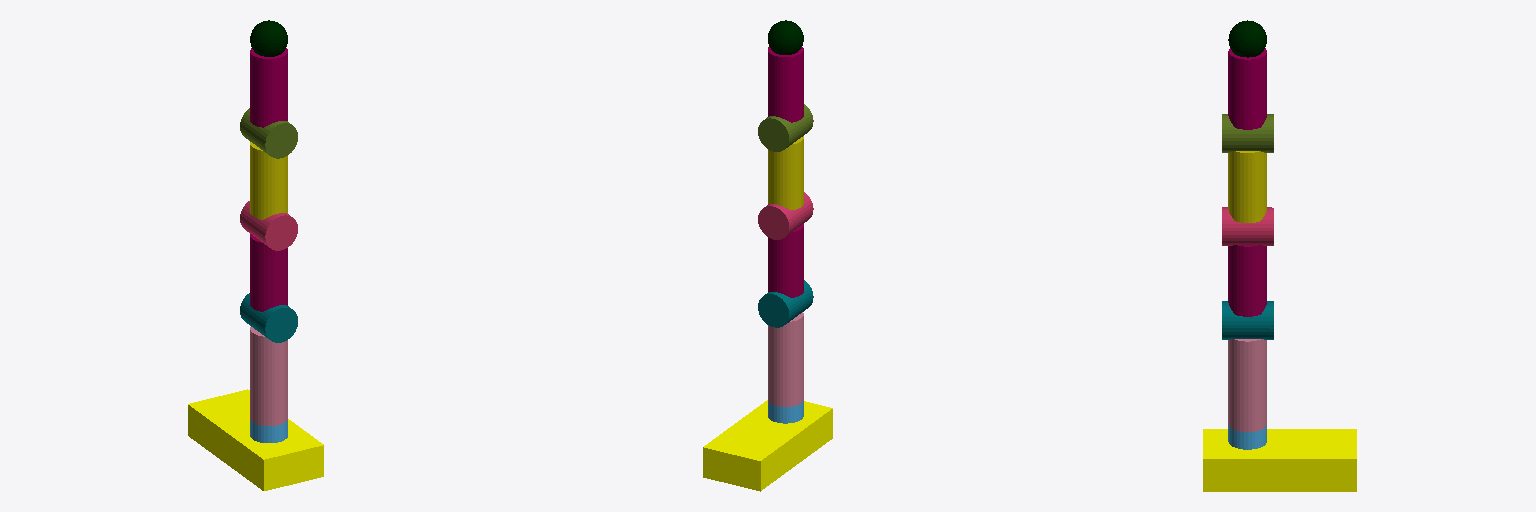
robot.urdf — my_robot:
<?xml version="1.0"?>
<robot name="my_robot">

    <material name="darkcyan">
        <color rgba="0.0392156862745098 0.5333333333333333 0.5411764705882353 1.0" />
    </material>

    <material name="darkforestgreen">
        <color rgba="0.0 0.17647058823529413 0.01568627450980392 1.0" />
    </material>

    <material name="darkfuchsia">
        <color rgba="0.615686274509804 0.027450980392156862 0.34901960784313724 1.0" />
    </material>

    <material name="darkgold">
        <color rgba="0.7098039215686275 0.5803921568627451 0.06274509803921569 1.0" />
    </material>

    <material name="darkgrassgreen">
        <color rgba="0.2196078431372549 0.5019607843137255 0.01568627450980392 1.0" />
    </material>

    <material name="darkgreen">
        <color rgba="0.0196078431372549 0.28627450980392155 0.027450980392156862 1.0" />
    </material>

    <material name="darkgreenblue">
        <color rgba="0.12156862745098039 0.38823529411764707 0.3411764705882353 1.0" />
    </material>

    <material name="darkgrey">
        <color rgba="0.21176470588235294 0.21568627450980393 0.21568627450980393 1.0" />
    </material>

    <material name="darkgreyblue">
        <color rgba="0.1607843137254902 0.27450980392156865 0.3568627450980392 1.0" />
    </material>

    <material name="darkhotpink">
        <color rgba="0.8509803921568627 0.00392156862745098 0.4 1.0" />
    </material>

    <material name="darkindigo">
        <color rgba="0.12156862745098039 0.03529411764705882 0.32941176470588235 1.0" />
    </material>

    <material name="darkishblue">
        <color rgba="0.00392156862745098 0.2549019607843137 0.5098039215686274 1.0" />
    </material>

    <material name="darkishgreen">
        <color rgba="0.1568627450980392 0.48627450980392156 0.21568627450980393 1.0" />
    </material>

    <material name="darkishpink">
        <color rgba="0.8549019607843137 0.27450980392156865 0.49019607843137253 1.0" />
    </material>

    <material name="darkishpurple">
        <color rgba="0.4588235294117647 0.09803921568627451 0.45098039215686275 1.0" />
    </material>

    <material name="darkishred">
        <color rgba="0.6627450980392157 0.011764705882352941 0.03137254901960784 1.0" />
    </material>

    <material name="darkkhaki">
        <color rgba="0.6078431372549019 0.5607843137254902 0.3333333333333333 1.0" />
    </material>

    <material name="darklavender">
        <color rgba="0.5215686274509804 0.403921568627451 0.596078431372549 1.0" />
    </material>

    <material name="darklilac">
        <color rgba="0.611764705882353 0.42745098039215684 0.6470588235294118 1.0" />
    </material>

    <material name="darklime">
        <color rgba="0.5176470588235295 0.7176470588235294 0.00392156862745098 1.0" />
    </material>

    <material name="darklimegreen">
        <color rgba="0.49411764705882355 0.7411764705882353 0.00392156862745098 1.0" />
    </material>

    <material name="darkmagenta">
        <color rgba="0.5882352941176471 0.0 0.33725490196078434 1.0" />
    </material>

    <material name="darkmaroon">
        <color rgba="0.23529411764705882 0.0 0.03137254901960784 1.0" />
    </material>

    <material name="darkmauve">
        <color rgba="0.5294117647058824 0.2980392156862745 0.3843137254901961 1.0" />
    </material>

    <material name="darkmint">
        <color rgba="0.2823529411764706 0.7529411764705882 0.4470588235294118 1.0" />
    </material>

    <material name="darkmintgreen">
        <color rgba="0.12549019607843137 0.7529411764705882 0.45098039215686275 1.0" />
    </material>

    <material name="darkmustard">
        <color rgba="0.6588235294117647 0.5372549019607843 0.0196078431372549 1.0" />
    </material>

    <material name="darknavy">
        <color rgba="0.0 0.01568627450980392 0.20784313725490197 1.0" />
    </material>

    <material name="darknavyblue">
        <color rgba="0.0 0.00784313725490196 0.1803921568627451 1.0" />
    </material>

    <material name="darkolive">
        <color rgba="0.21568627450980393 0.24313725490196078 0.00784313725490196 1.0" />
    </material>

    <material name="darkolivegreen">
        <color rgba="0.23529411764705882 0.30196078431372547 0.011764705882352941 1.0" />
    </material>

    <material name="darkorange">
        <color rgba="0.7764705882352941 0.3176470588235294 0.00784313725490196 1.0" />
    </material>

    <material name="darkpastelgreen">
        <color rgba="0.33725490196078434 0.6823529411764706 0.3411764705882353 1.0" />
    </material>

    <material name="darkpeach">
        <color rgba="0.8705882352941177 0.49411764705882355 0.36470588235294116 1.0" />
    </material>

    <material name="darkperiwinkle">
        <color rgba="0.4 0.37254901960784315 0.8196078431372549 1.0" />
    </material>

    <material name="darkpink">
        <color rgba="0.796078431372549 0.2549019607843137 0.4196078431372549 1.0" />
    </material>

    <material name="darkplum">
        <color rgba="0.24705882352941178 0.00392156862745098 0.17254901960784313 1.0" />
    </material>

    <material name="darkpurple">
        <color rgba="0.20784313725490197 0.023529411764705882 0.24313725490196078 1.0" />
    </material>

    <material name="darkred">
        <color rgba="0.5176470588235295 0.0 0.0 1.0" />
    </material>

    <material name="darkrose">
        <color rgba="0.7098039215686275 0.2823529411764706 0.36470588235294116 1.0" />
    </material>

    <material name="darkroyalblue">
        <color rgba="0.00784313725490196 0.023529411764705882 0.43529411764705883 1.0" />
    </material>

    <material name="darksage">
        <color rgba="0.34901960784313724 0.5215686274509804 0.33725490196078434 1.0" />
    </material>

    <material name="darksalmon">
        <color rgba="0.7843137254901961 0.35294117647058826 0.3254901960784314 1.0" />
    </material>

    <material name="darksand">
        <color rgba="0.6588235294117647 0.5607843137254902 0.34901960784313724 1.0" />
    </material>

    <material name="darkseafoam">
        <color rgba="0.12156862745098039 0.7098039215686275 0.47843137254901963 1.0" />
    </material>

    <material name="darkseafoamgreen">
        <color rgba="0.24313725490196078 0.6862745098039216 0.4627450980392157 1.0" />
    </material>

    <material name="darkseagreen">
        <color rgba="0.06666666666666667 0.5294117647058824 0.36470588235294116 1.0" />
    </material>

    <material name="darkskyblue">
        <color rgba="0.26666666666666666 0.5568627450980392 0.8941176470588236 1.0" />
    </material>

    <material name="darkslateblue">
        <color rgba="0.12941176470588237 0.2784313725490196 0.3803921568627451 1.0" />
    </material>

    <material name="darktan">
        <color rgba="0.6862745098039216 0.5333333333333333 0.2901960784313726 1.0" />
    </material>

    <material name="darktaupe">
        <color rgba="0.4980392156862745 0.40784313725490196 0.3058823529411765 1.0" />
    </material>

    <material name="darkteal">
        <color rgba="0.00392156862745098 0.30196078431372547 0.3058823529411765 1.0" />
    </material>

    <material name="darkturquoise">
        <color rgba="0.01568627450980392 0.3607843137254902 0.35294117647058826 1.0" />
    </material>

    <material name="darkviolet">
        <color rgba="0.20392156862745098 0.00392156862745098 0.24705882352941178 1.0" />
    </material>

    <material name="darkyellow">
        <color rgba="0.8352941176470589 0.7137254901960784 0.0392156862745098 1.0" />
    </material>

    <material name="darkyellowgreen">
        <color rgba="0.4470588235294118 0.5607843137254902 0.00784313725490196 1.0" />
    </material>

    <material name="deepaqua">
        <color rgba="0.03137254901960784 0.47058823529411764 0.4980392156862745 1.0" />
    </material>

    <material name="deepblue">
        <color rgba="0.01568627450980392 0.00784313725490196 0.45098039215686275 1.0" />
    </material>

    <material name="deepbrown">
        <color rgba="0.2549019607843137 0.00784313725490196 0.0 1.0" />
    </material>

    <material name="deepgreen">
        <color rgba="0.00784313725490196 0.34901960784313724 0.058823529411764705 1.0" />
    </material>

    <material name="deeplavender">
        <color rgba="0.5529411764705883 0.3686274509803922 0.7176470588235294 1.0" />
    </material>

    <material name="deeplilac">
        <color rgba="0.5882352941176471 0.43137254901960786 0.7411764705882353 1.0" />
    </material>

    <material name="deepmagenta">
        <color rgba="0.6274509803921569 0.00784313725490196 0.3607843137254902 1.0" />
    </material>

    <material name="deeporange">
        <color rgba="0.8627450980392157 0.30196078431372547 0.00392156862745098 1.0" />
    </material>

    <material name="deeppink">
        <color rgba="0.796078431372549 0.00392156862745098 0.3843137254901961 1.0" />
    </material>

    <material name="deeppurple">
        <color rgba="0.21176470588235294 0.00392156862745098 0.24705882352941178 1.0" />
    </material>

    <material name="deepred">
        <color rgba="0.6039215686274509 0.00784313725490196 0.0 1.0" />
    </material>

    <material name="deeprose">
        <color rgba="0.7803921568627451 0.2784313725490196 0.403921568627451 1.0" />
    </material>

    <material name="deepseablue">
        <color rgba="0.00392156862745098 0.32941176470588235 0.5098039215686274 1.0" />
    </material>

    <material name="deepskyblue">
        <color rgba="0.050980392156862744 0.4588235294117647 0.9725490196078431 1.0" />
    </material>

    <material name="deepteal">
        <color rgba="0.0 0.3333333333333333 0.35294117647058826 1.0" />
    </material>

    <material name="deepturquoise">
        <color rgba="0.00392156862745098 0.45098039215686275 0.4549019607843137 1.0" />
    </material>

    <material name="deepviolet">
        <color rgba="0.28627450980392155 0.023529411764705882 0.2823529411764706 1.0" />
    </material>

    <material name="denim">
        <color rgba="0.23137254901960785 0.38823529411764707 0.5490196078431373 1.0" />
    </material>

    <material name="denimblue">
        <color rgba="0.23137254901960785 0.3568627450980392 0.5725490196078431 1.0" />
    </material>

    <material name="desert">
        <color rgba="0.8 0.6784313725490196 0.3764705882352941 1.0" />
    </material>

    <material name="diarrhea">
        <color rgba="0.6235294117647059 0.5137254901960784 0.011764705882352941 1.0" />
    </material>

    <material name="dirt">
        <color rgba="0.5411764705882353 0.43137254901960786 0.27058823529411763 1.0" />
    </material>

    <material name="dirtbrown">
        <color rgba="0.5137254901960784 0.396078431372549 0.2235294117647059 1.0" />
    </material>

    <material name="dirtyblue">
        <color rgba="0.24705882352941178 0.5098039215686274 0.615686274509804 1.0" />
    </material>

    <material name="dirtygreen">
        <color rgba="0.4 0.49411764705882355 0.17254901960784313 1.0" />
    </material>

    <material name="dirtyorange">
        <color rgba="0.7843137254901961 0.4627450980392157 0.023529411764705882 1.0" />
    </material>

    <material name="dirtypink">
        <color rgba="0.792156862745098 0.4823529411764706 0.5019607843137255 1.0" />
    </material>

    <material name="dirtypurple">
        <color rgba="0.45098039215686275 0.2901960784313726 0.396078431372549 1.0" />
    </material>

    <material name="dirtyyellow">
        <color rgba="0.803921568627451 0.7725490196078432 0.0392156862745098 1.0" />
    </material>

    <material name="dodgerblue">
        <color rgba="0.24313725490196078 0.5098039215686274 0.9882352941176471 1.0" />
    </material>

    <material name="drab">
        <color rgba="0.5098039215686274 0.5137254901960784 0.26666666666666666 1.0" />
    </material>

    <material name="drabgreen">
        <color rgba="0.4549019607843137 0.5843137254901961 0.3176470588235294 1.0" />
    </material>

    <material name="driedblood">
        <color rgba="0.29411764705882354 0.00392156862745098 0.00392156862745098 1.0" />
    </material>

    <material name="duckeggblue">
        <color rgba="0.7647058823529411 0.984313725490196 0.9568627450980393 1.0" />
    </material>

    <material name="dullblue">
        <color rgba="0.28627450980392155 0.4588235294117647 0.611764705882353 1.0" />
    </material>

    <material name="dullbrown">
        <color rgba="0.5294117647058824 0.43137254901960786 0.29411764705882354 1.0" />
    </material>

    <material name="dullgreen">
        <color rgba="0.4549019607843137 0.6509803921568628 0.3843137254901961 1.0" />
    </material>

    <material name="dullorange">
        <color rgba="0.8470588235294118 0.5254901960784314 0.23137254901960785 1.0" />
    </material>

    <material name="dullpink">
        <color rgba="0.8352941176470589 0.5254901960784314 0.615686274509804 1.0" />
    </material>

    <link name="base">
        <visual>
            <origin xyz="0.0 0.0 0.0" rpy="0.0 0.0 0.0" />
            <geometry>
                <box size="11.0 24.0 5.5" />
            </geometry>
            <material name="base_color">
                <color rgba="255.0 255.0 0.0 1.0" />
            </material>
        </visual>

    </link>
    <joint name="base_2_joint" type="fixed">
        <origin xyz="5.5 6.0 2.75" rpy="0.0 0.0 0.0" />
        <parent link="base" />
        <child link="base_link" />

    </joint>
    <link name="base_link">
        <visual>
            <origin xyz="-6 -11.0 1.75" rpy="0.0 0.0 0.0" />
            <geometry>
                <cylinder radius="3.0" length="3.0" />
            </geometry>
        </visual>
    </link>
    <joint name="base_arm_joint" type="revolute">
        <origin xyz="-6 -11.0 0" rpy="0.0 0.0 0.0" />
        <parent link="base_link" />
        <child link="arm_1" />
        <axis xyz="0.0 0.0 1.0" />
        <limit lower="-1.57" upper="1.57" effort="3.0" velocity="3.0" />

    </joint>
    <link name="arm_1">
        <visual>
            <origin xyz="0 0 11.0" rpy="0.0 0.0 0" />
            <geometry>
                <cylinder radius="3" length="15.5" />
            </geometry>
            <material name="dullpink">
            </material>
        </visual>
    </link>
    <joint name="base_arm_joint_1" type="fixed">
        <origin xyz="0 0 13.0" rpy="0.0 0 0" />
        <parent link="arm_1" />
        <child link="joint_2_model" />


    </joint>
    <link name="joint_2_model">
        <visual>
            <origin xyz="0 0 8" rpy="1.57 0 0" />
            <geometry>
                <cylinder radius="3" length="8.0" />
            </geometry>
            <material name="deepaqua">
            </material>
        </visual>
    </link>
    <joint name="base_arm_joint_2" type="revolute">
        <origin xyz="0 0 8.0" rpy="0.0 0 0" />
        <parent link="joint_2_model" />
        <child link="arm_2" />
        <axis xyz="0.0 1.0 0.0" />
        <limit lower="-1.57" upper="1.57" effort="3.0" velocity="3.0" />

    </joint>
    <link name="arm_2">
        <visual>
            <origin xyz="0 0 8" rpy="0 0 0" />
            <geometry>
                <cylinder radius="3" length="12.0" />
            </geometry>
            <material name="darkfuchsia">
            </material>
        </visual>
    </link>

    <joint name="base_arm_joint_3" type="fixed">
        <origin xyz="0 0 8" rpy="0.0 0.0 0.0" />
        <parent link="arm_2" />
        <child link="joint_3_model" />

    </joint>
    <link name="joint_3_model">
        <visual>
            <origin xyz="0 0 8" rpy="1.57 0 0" />
            <geometry>
                <cylinder radius="3" length="8.0" />
            </geometry>
            <material name="darkpink">
            </material>
        </visual>
    </link>

    <link name="arm_3">
        <visual>
            <origin xyz="0 0 8" rpy="0 0 0" />
            <geometry>
                <cylinder radius="3" length="12.0" />
            </geometry>
            <material name="dirtyyellow">
            </material>
        </visual>
    </link>


    <joint name="base_arm_joint_4" type="revolute">
        <origin xyz="0 0 8.0" rpy="0.0 0 0" />
        <parent link="joint_3_model" />
        <child link="arm_3" />
        <axis xyz="0.0 1.0 0.0" />
        <limit lower="-1.57" upper="1.57" effort="3.0" velocity="3.0" />
    </joint>

    <link name="joint_4_model">
        <visual>
            <origin xyz="0 0 8" rpy="1.57 0 0" />
            <geometry>
                <cylinder radius="3" length="8.0" />
            </geometry>
            <material name="dirtygreen">
            </material>
        </visual>
    </link>
    <joint name="base_arm_joint_5" type="fixed">
        <origin xyz="0 0 8.0" rpy="0.0 0 0" />
        <parent link="arm_3" />
        <child link="joint_4_model" />


    </joint>

    <link name="arm_4">
        <visual>
            <origin xyz="0 0 8" rpy="0 0 0" />
            <geometry>
                <cylinder radius="3" length="12.0" />
            </geometry>
            <material name="deepmagenta">
            </material>
        </visual>
    </link>


    <joint name="base_arm_joint_6" type="revolute">
        <origin xyz="0 0 8.0" rpy="0.0 0 0" />
        <parent link="joint_4_model" />
        <child link="arm_4" />
        <axis xyz="0.0 1.0 0.0" />
        <limit lower="-1.57" upper="1.57" effort="3.0" velocity="3.0" />
    </joint>



    <link name="tool">
        <visual>
            <origin xyz="0 0 8" rpy="0 0 0" />
            <geometry>
                <sphere radius="3" />
            </geometry>
            <material name="darkforestgreen">
            </material>
        </visual>
    </link>

    <joint name="end_tool" type="fixed">
        <origin xyz="0 0 8.0" rpy="0.0 0 0" />
        <parent link="arm_4" />
        <child link="tool" />


    </joint>
</robot>

--- Facts derived from the render (not from the file) ---
3 views of the same robot in one strip: view 1: azimuth 30°, elevation 25°; view 2: azimuth 150°, elevation 25°; view 3: azimuth 270°, elevation 25° (orthographic).
Model my_robot with 10 links and 9 joints (4 revolute, 5 fixed), rooted at base, posed all joints at 0.
Visible links, largest first — view 1: base, arm_1, arm_4, arm_2, arm_3, joint_2_model, joint_3_model, joint_4_model, tool, base_link; view 2: base, arm_1, arm_4, arm_3, arm_2, joint_2_model, joint_3_model, joint_4_model, tool, base_link; view 3: base, arm_1, arm_4, arm_3, arm_2, joint_2_model, joint_3_model, joint_4_model, tool, base_link.
Boxes of the visible links, left/top/right/bottom form: base: left=188, top=389, right=323, bottom=490; arm_1: left=250, top=327, right=287, bottom=425; arm_4: left=250, top=48, right=287, bottom=127; arm_2: left=250, top=234, right=287, bottom=311; arm_3: left=250, top=142, right=287, bottom=219; joint_2_model: left=240, top=293, right=297, bottom=342; joint_3_model: left=240, top=201, right=297, bottom=250; joint_4_model: left=240, top=108, right=297, bottom=158; tool: left=250, top=20, right=287, bottom=56; base_link: left=250, top=420, right=287, bottom=442; base: left=703, top=400, right=832, bottom=491; arm_1: left=768, top=312, right=803, bottom=406; arm_4: left=768, top=47, right=803, bottom=122; arm_3: left=768, top=136, right=803, bottom=209; arm_2: left=768, top=224, right=803, bottom=297; joint_2_model: left=758, top=280, right=813, bottom=327; joint_3_model: left=758, top=192, right=813, bottom=239; joint_4_model: left=758, top=104, right=813, bottom=151; tool: left=768, top=20, right=803, bottom=54; base_link: left=768, top=401, right=803, bottom=423; base: left=1203, top=429, right=1356, bottom=491; arm_1: left=1228, top=339, right=1266, bottom=431; arm_4: left=1228, top=48, right=1266, bottom=129; arm_3: left=1228, top=151, right=1266, bottom=222; arm_2: left=1228, top=245, right=1266, bottom=316; joint_2_model: left=1222, top=301, right=1273, bottom=339; joint_3_model: left=1222, top=207, right=1273, bottom=245; joint_4_model: left=1222, top=114, right=1273, bottom=152; tool: left=1228, top=20, right=1266, bottom=57; base_link: left=1228, top=424, right=1266, bottom=449.
Bounding box of the posed robot: 11 × 24 × 77.5 m (x, y, z).
Geometry: primitives only (box / cylinder / sphere), no mesh files.